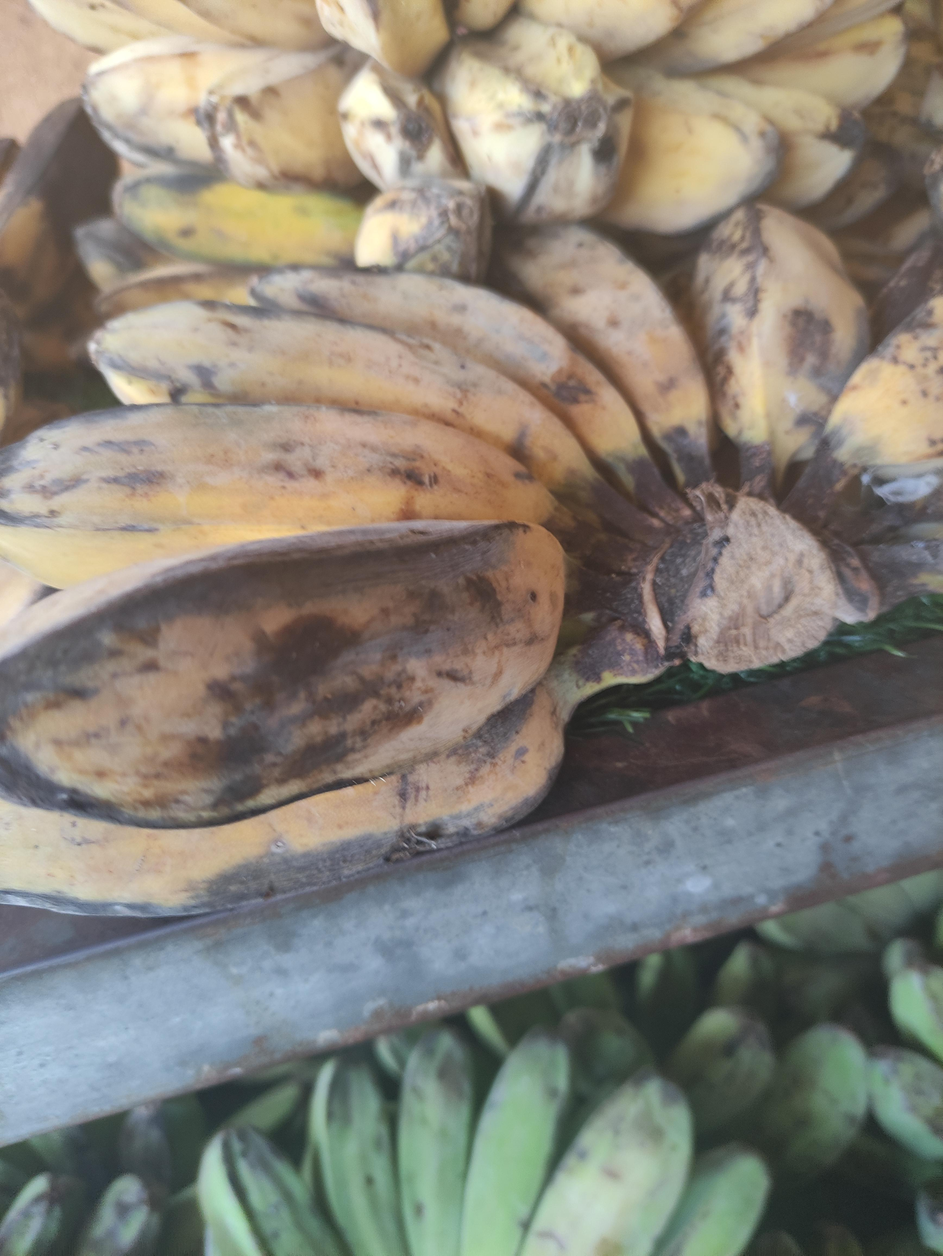ripe: (0, 201, 943, 917), (33, 0, 906, 236), (0, 98, 116, 323)
underripe: (198, 1029, 768, 1256), (0, 1066, 313, 1256), (74, 173, 492, 315), (558, 1006, 871, 1189)
